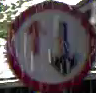Two way: (5, 1, 95, 90)
